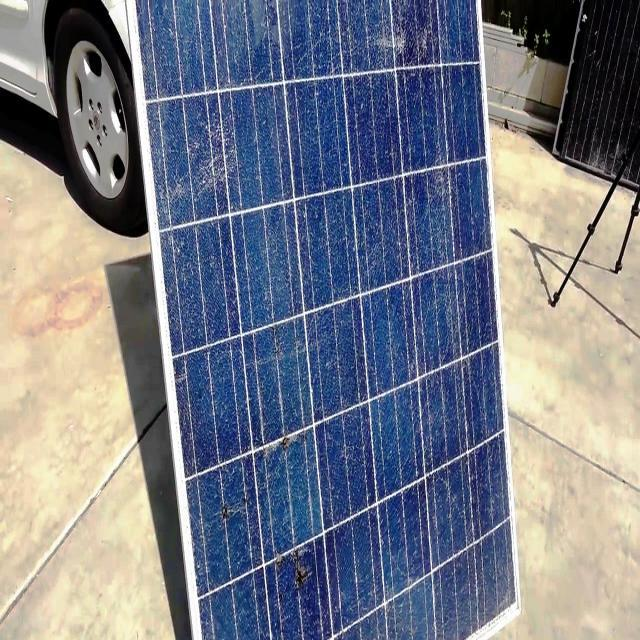faulty: (130, 2, 518, 640)
